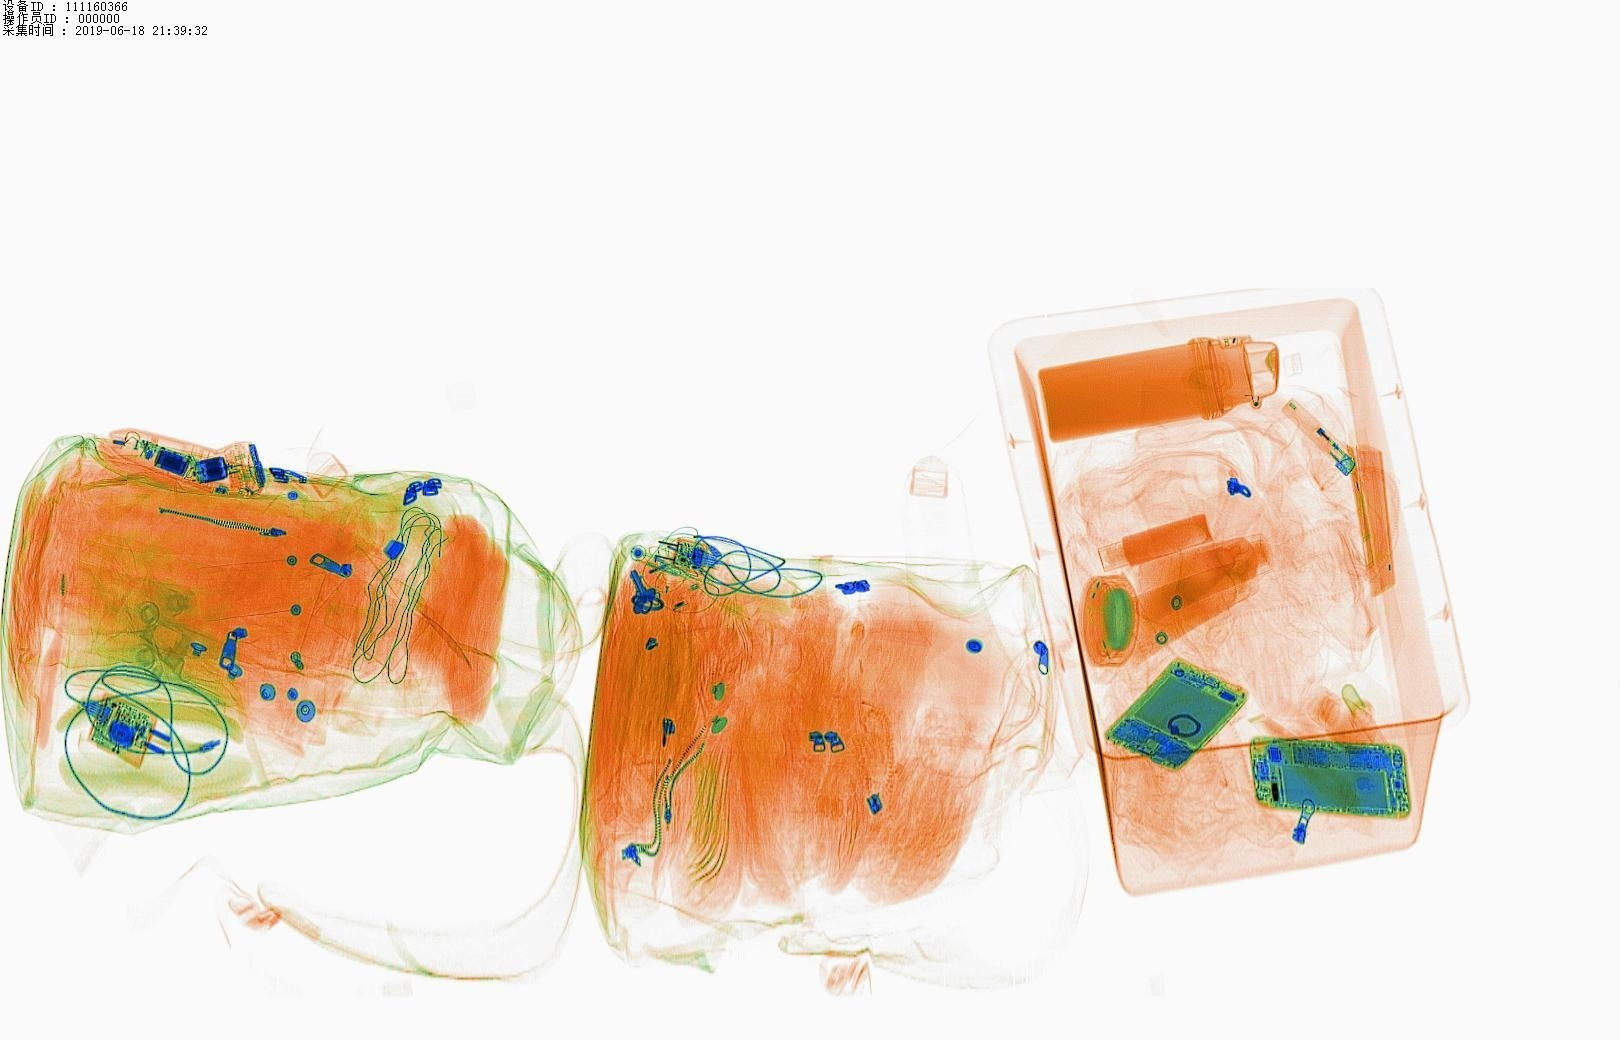NonmetallicFire: (1281, 385, 1391, 499)
